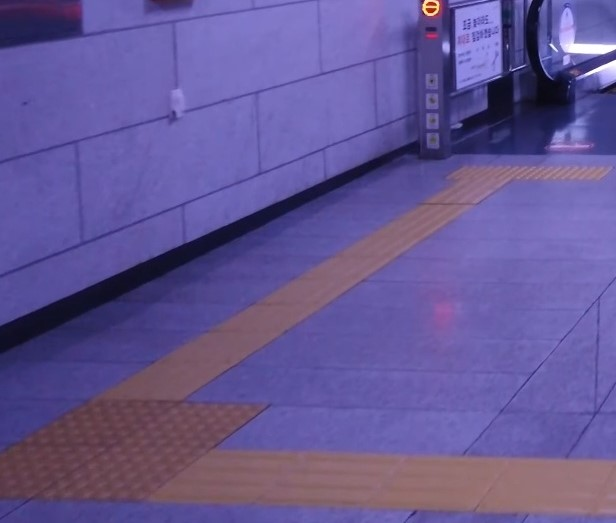guideBlock: (285, 455, 387, 518), (494, 464, 609, 516), (391, 457, 478, 507), (183, 453, 270, 501)
warningBlock: (83, 437, 166, 490), (1, 449, 87, 491), (152, 404, 231, 443), (82, 399, 145, 435)
